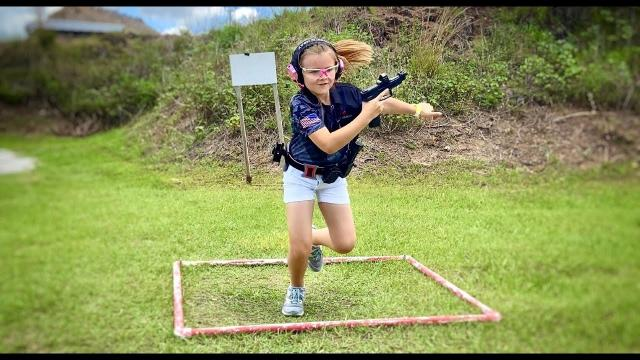handgun: (358, 68, 410, 131)
